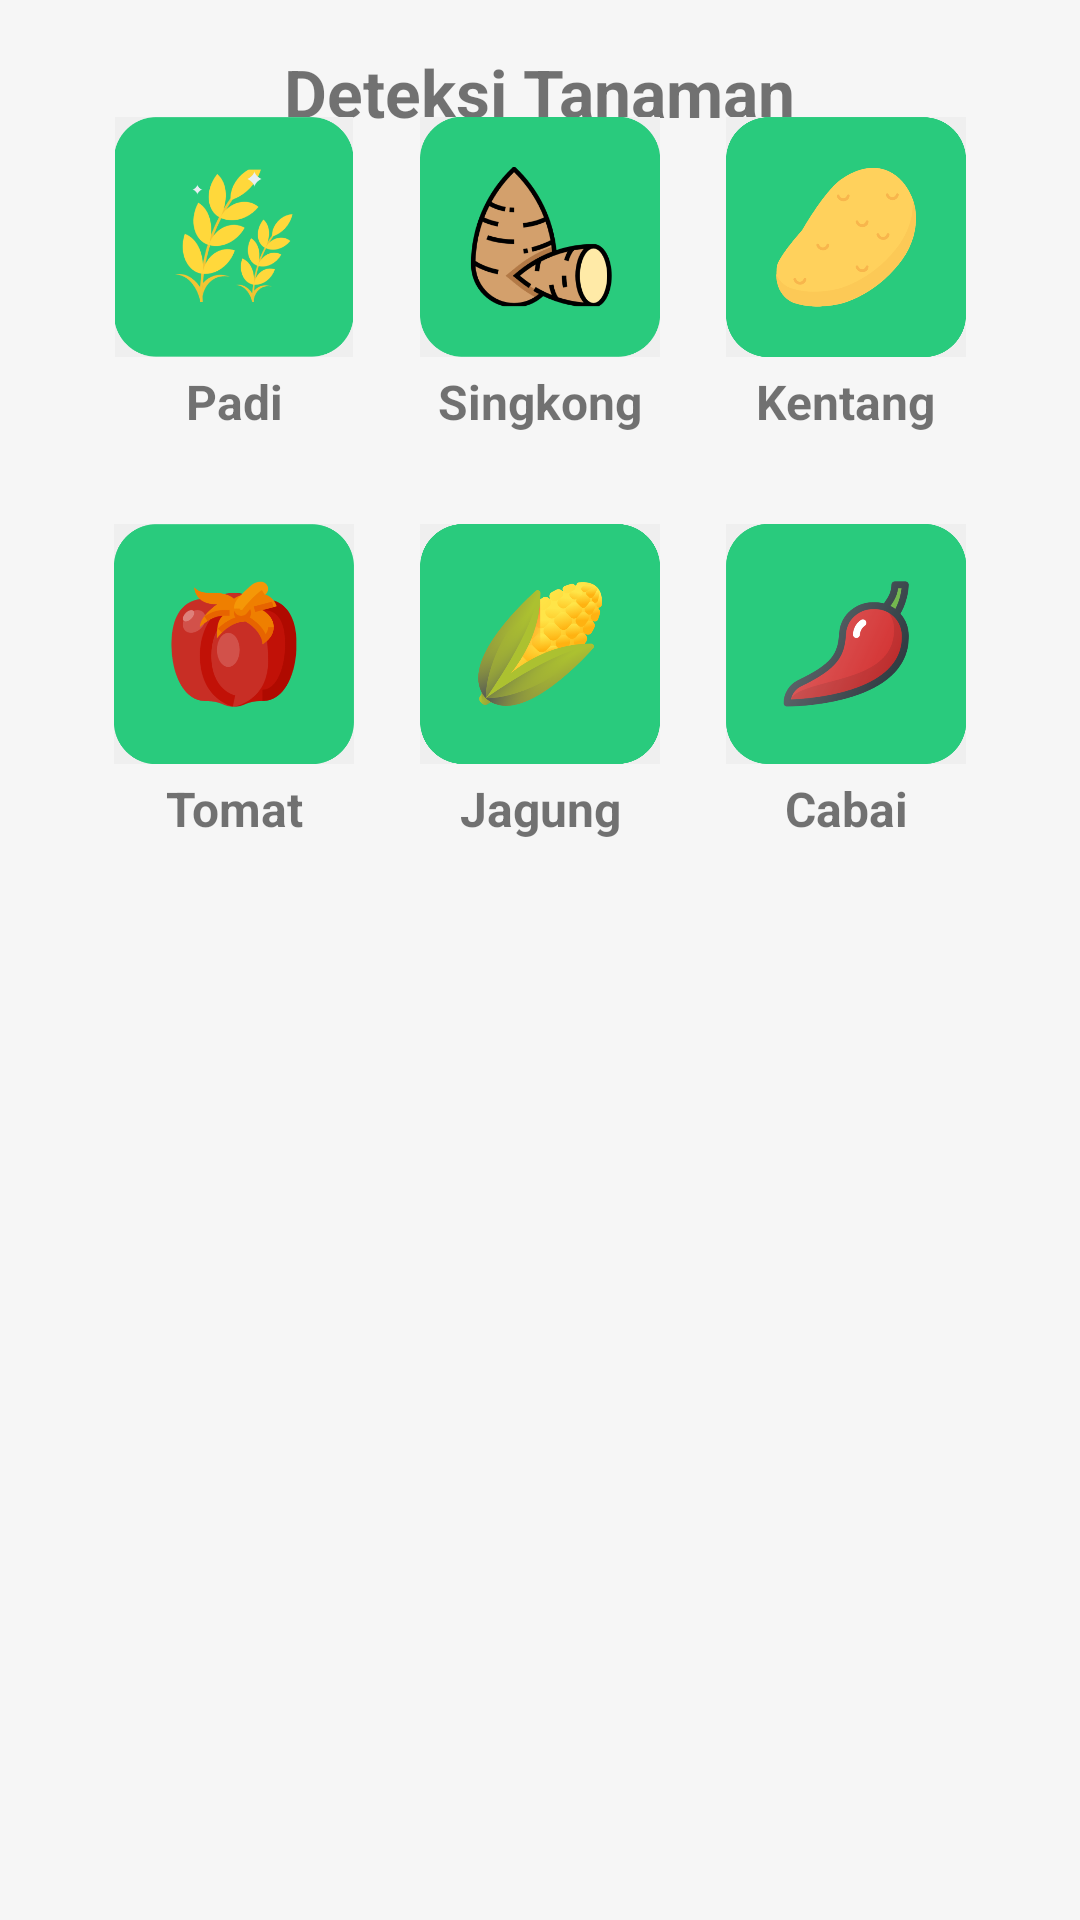

Icons on this 1080px×1920px Android screen, each with the point to tap as (x=x, y=y):
ubi: (x=540, y=237)
